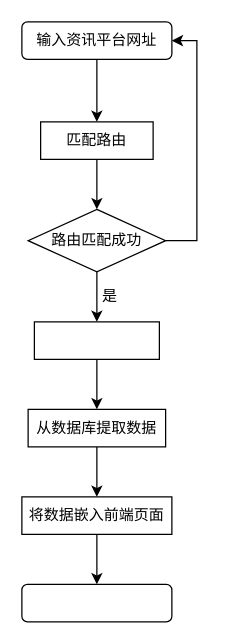
This 229x644 diagram has some shape labels left out. The box of each missing label's shape, as (x1, y1, x2, y2) in pixels:
前端数据展示: (21, 583, 172, 622)
匹配视图函数: (33, 321, 159, 359)
